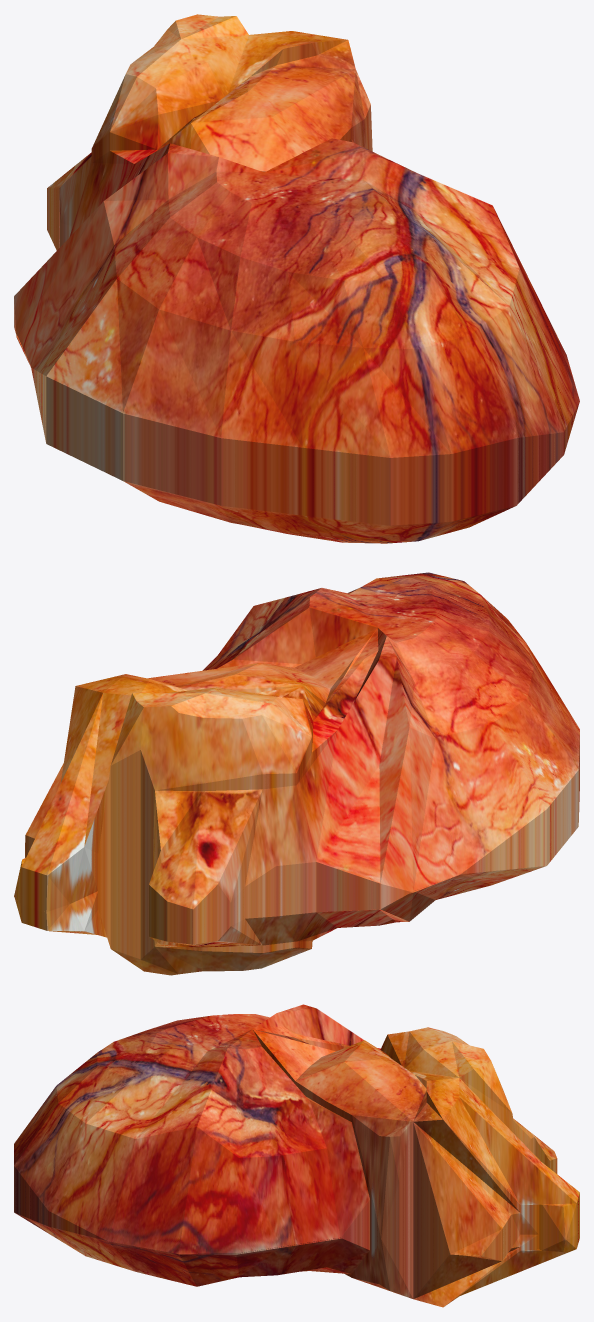
The model's file is heart.gltf.
3 views of the same model, one above another, from view 1: azimuth 30°, elevation 25°; view 2: azimuth 150°, elevation 25°; view 3: azimuth 270°, elevation 25° (orthographic). The views are drawn at different scales.
Visible parts, largest first — view 1: group_2, group_1; view 2: group_2, group_1; view 3: group_2, group_1.
Part boxes in pixels (box(x1,y1,x2,y2)): group_2: box(14, 14, 579, 503); group_1: box(14, 216, 579, 543); group_2: box(14, 572, 579, 932); group_1: box(14, 772, 579, 975); group_2: box(14, 1004, 579, 1256); group_1: box(14, 1197, 579, 1307).
Size of the model in its own units: 1.82 by 1.22 by 2.78.
Materials: 2 (1 with a texture image).
